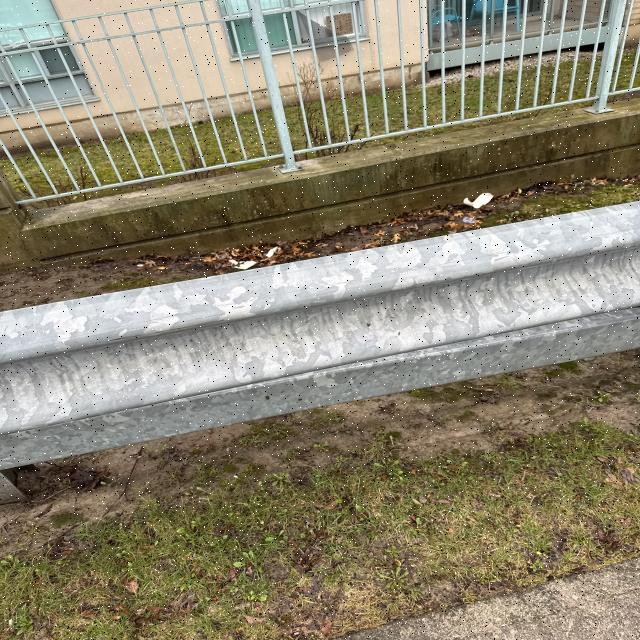Guard rail: (33, 212, 640, 463)
